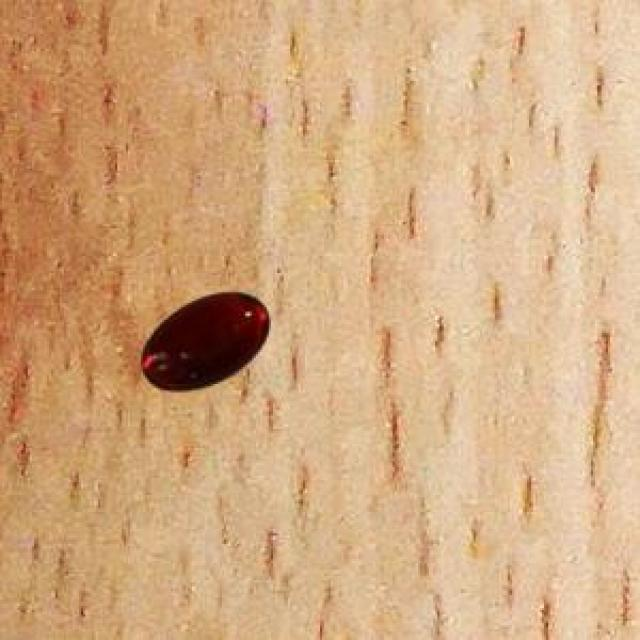Medicol: (130, 282, 281, 410)
